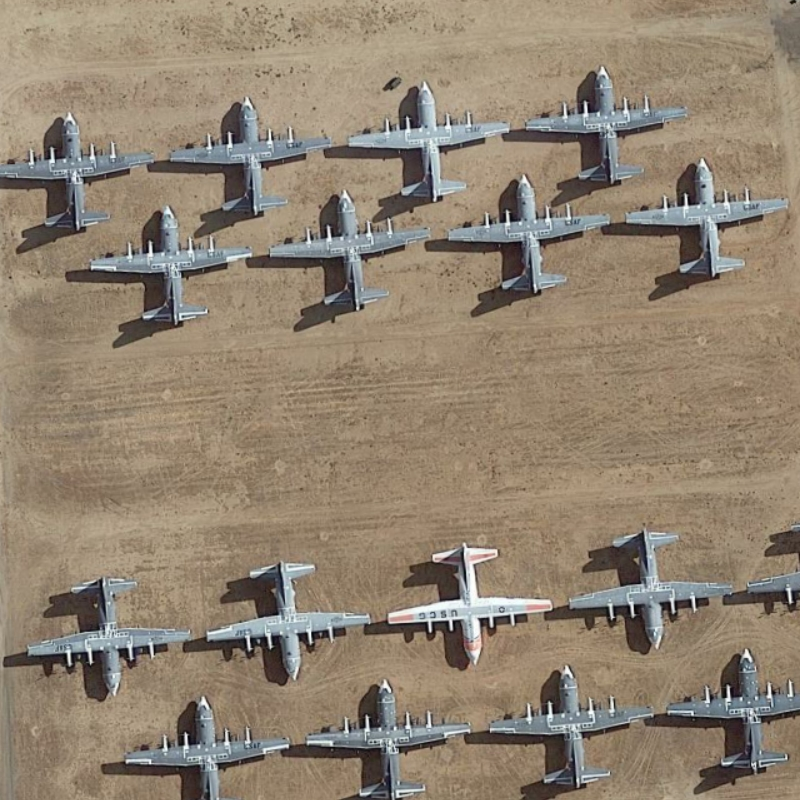A2: (482, 655, 659, 800), (378, 531, 560, 670), (567, 517, 739, 660), (13, 569, 197, 702), (82, 201, 260, 336), (443, 175, 618, 311), (339, 77, 513, 211), (522, 60, 695, 192), (206, 553, 373, 686), (626, 154, 789, 290), (266, 184, 426, 322), (300, 678, 474, 800), (167, 92, 334, 219), (2, 105, 160, 238), (113, 689, 292, 800), (667, 646, 800, 779)
